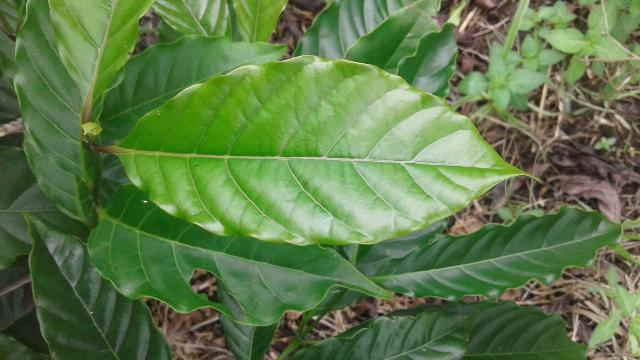healthy: (118, 60, 539, 245)
